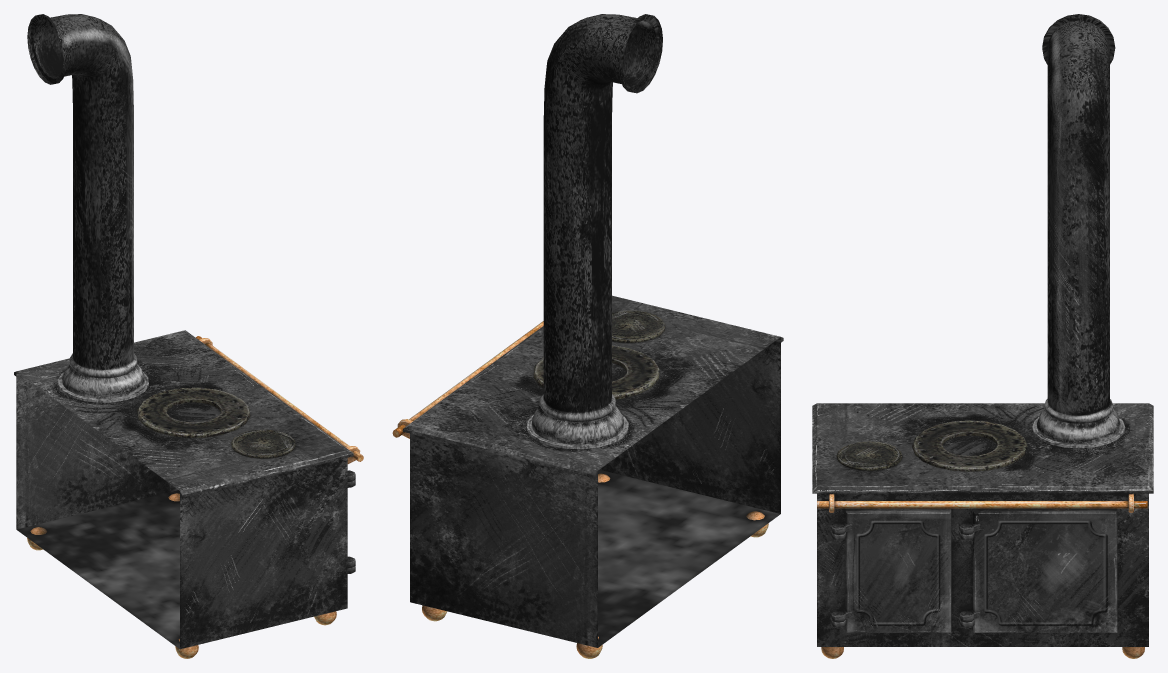
The model's file is stove.fbx.
3 views of the same model, side by side, from view 1: azimuth 30°, elevation 25°; view 2: azimuth 150°, elevation 25°; view 3: azimuth 270°, elevation 25° (orthographic). The views are drawn at different scales.
Visible parts, largest first — view 1: polySurface557; view 2: polySurface557; view 3: polySurface557.
Boxes of the visible parts, x1,y1,x2,y2 form: polySurface557: (14, 14, 363, 658); polySurface557: (392, 14, 783, 658); polySurface557: (812, 14, 1153, 658).
Size of the model in its own units: 111 by 306 by 167.
